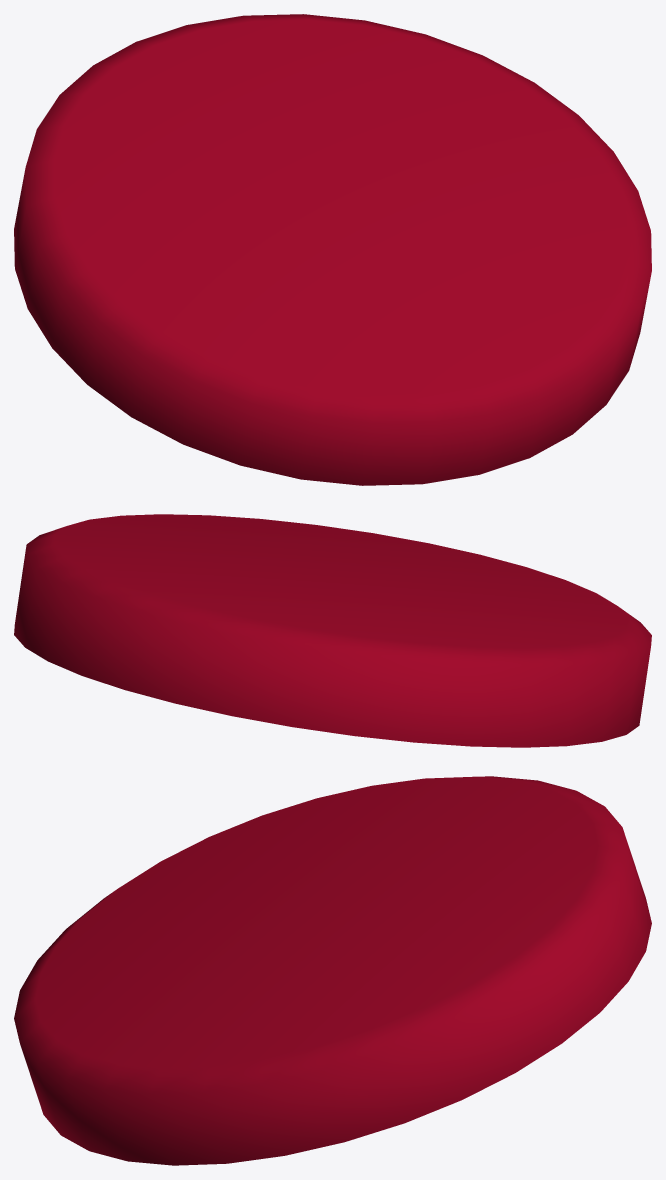
The picture shows the model from 3 angles, top to bottom: view 1: azimuth 30°, elevation 25°; view 2: azimuth 150°, elevation 25°; view 3: azimuth 270°, elevation 25°; orthographic projection.
Visible parts, largest first — view 1: b1.002; view 2: b1.002; view 3: b1.002.
Boxes of the visible parts, box(x1,y1,x2,y2) form: b1.002: box(14, 14, 651, 485); b1.002: box(14, 514, 651, 747); b1.002: box(14, 776, 651, 1165).
Size of the model in its own units: 42.99 by 18.04 by 42.77.
